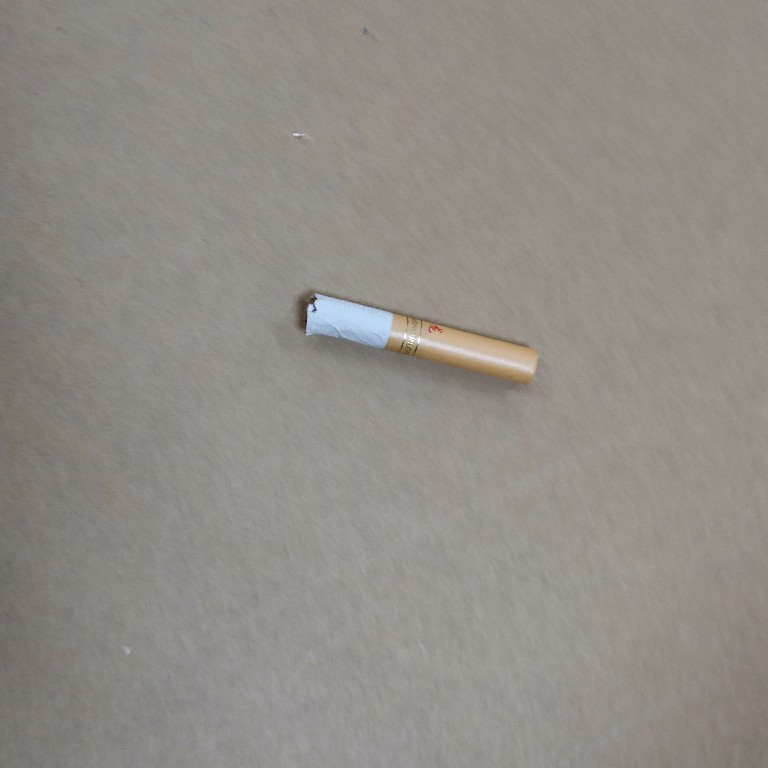cigarette: (298, 284, 542, 396)
